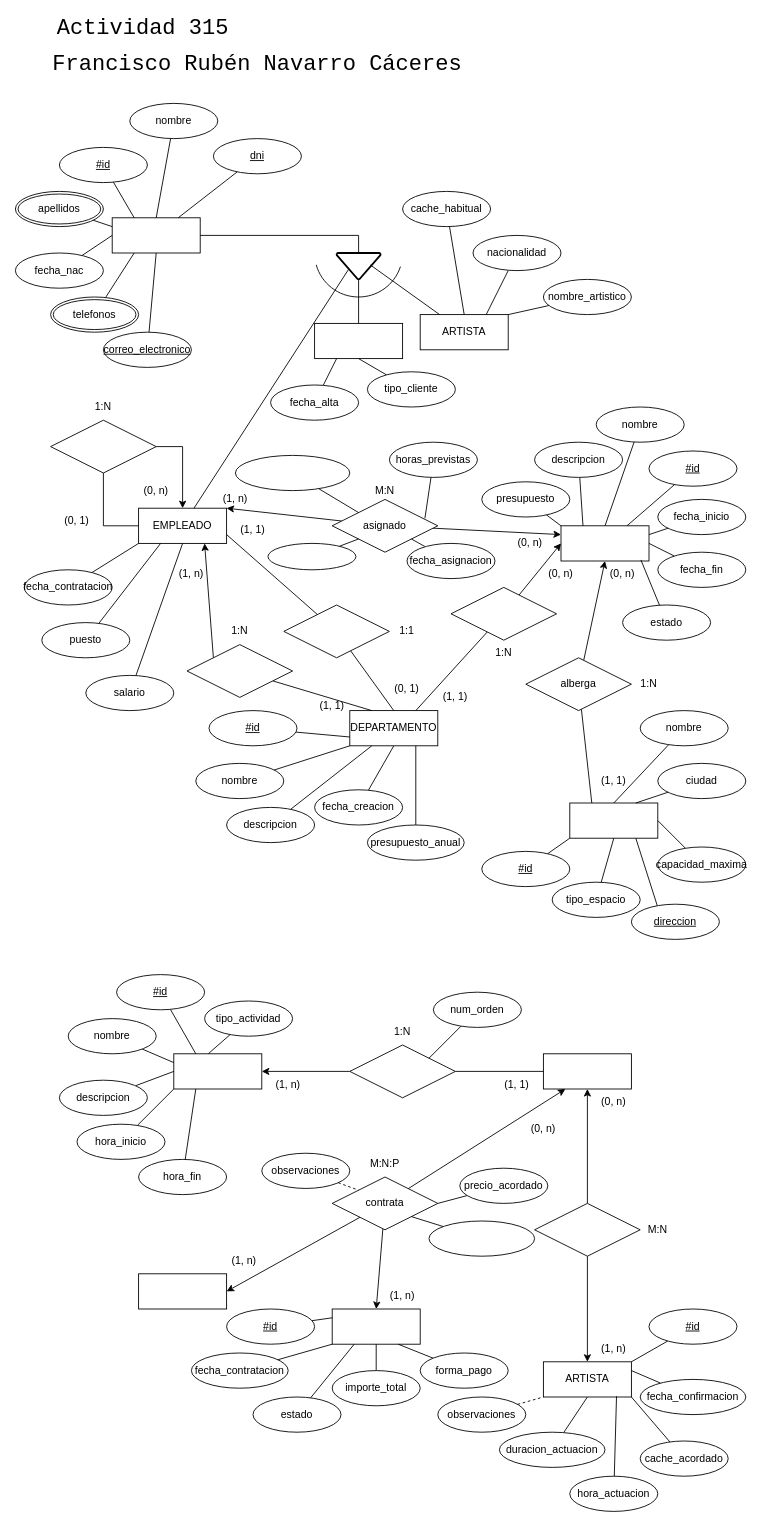
Some shapes in this 762 by 1527 pixel diagram are drawn without their labels. Here are the shapes that lost their labels. From the top down, the centre of each, then its label:
At (155,235): "PERSONA".
At (358,341): "CLIENTE".
At (103,446): "es responsable".
At (292,473): "funcion_desempenada".
At (311,556): "horas_realizadas".
At (604,543): "EVENTO".
At (336,631): "dirige".
At (503,613): "organiza".
At (239,670): "pertenece".
At (613,820): "ESPACIO".
At (217,1071): "ACTIVIDAD".
At (402,1071): "pertenecen".
At (587,1071): "EVENTO*".
At (481,1238): "descuento_aplicado".
At (587,1229): "participa".
At (182,1291): "CLIENTE*".
At (375,1326): "CONTRATACION".
